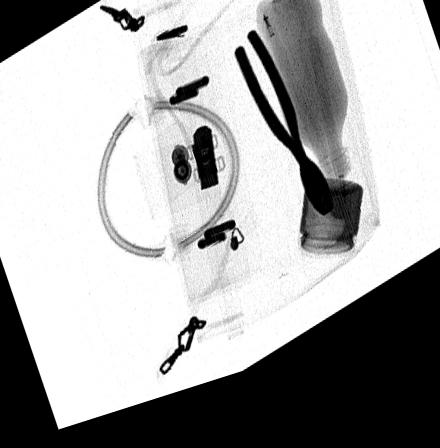Pliers: (230, 39, 337, 240)
